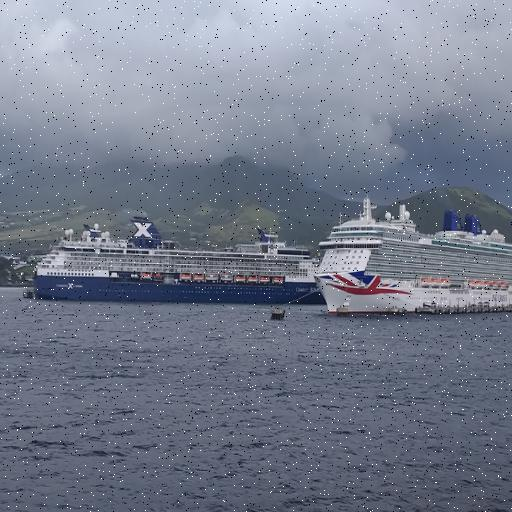cruises: (31, 216, 328, 310), (312, 195, 512, 319)
